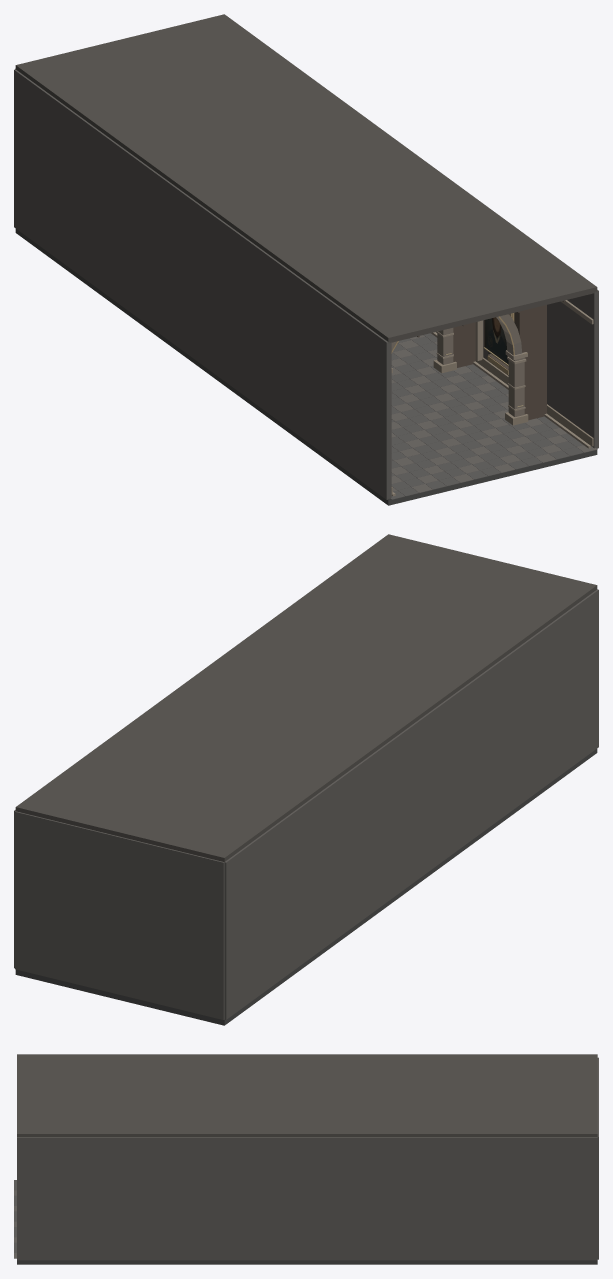
The model's file is MUSEO.glb.
3 renders of one model, top to bottom at view 1: azimuth 30°, elevation 25°; view 2: azimuth 150°, elevation 25°; view 3: azimuth 270°, elevation 25°, orthographic. The views are drawn at different scales.
Visible parts, largest first — view 1: architecture_ceiling, architecture_walls, architecture_tileA, architecture_tileB, architecture_wood, architecture_floor, architecture_columns, architecture_arch_trim, architecture_plinth, portrait_copernico; view 2: architecture_walls, architecture_ceiling, architecture_floor; view 3: architecture_walls, architecture_ceiling, architecture_floor.
Boxes of the visible parts, x1,y1,x2,y2 form: architecture_ceiling: (15, 14, 597, 343); architecture_walls: (14, 68, 598, 499); architecture_tileA: (390, 333, 583, 499); architecture_tileB: (391, 335, 597, 492); architecture_wood: (417, 300, 565, 420); architecture_floor: (15, 229, 597, 505); architecture_columns: (437, 328, 524, 416); architecture_arch_trim: (391, 300, 593, 496); architecture_plinth: (391, 332, 593, 495); portrait_copernico: (485, 317, 508, 363); architecture_walls: (14, 589, 598, 1019); architecture_ceiling: (15, 534, 597, 861); architecture_floor: (15, 749, 597, 1025); architecture_walls: (17, 1057, 598, 1260); architecture_ceiling: (17, 1054, 597, 1136); architecture_floor: (17, 1260, 597, 1264).
Bounding box in the file's own units: 15.45 × 11.67 × 47.34.
9 materials, 9 textured.
